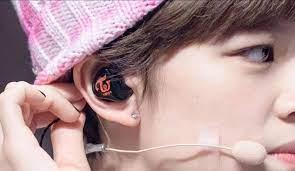earphone: (85, 64, 138, 109)
